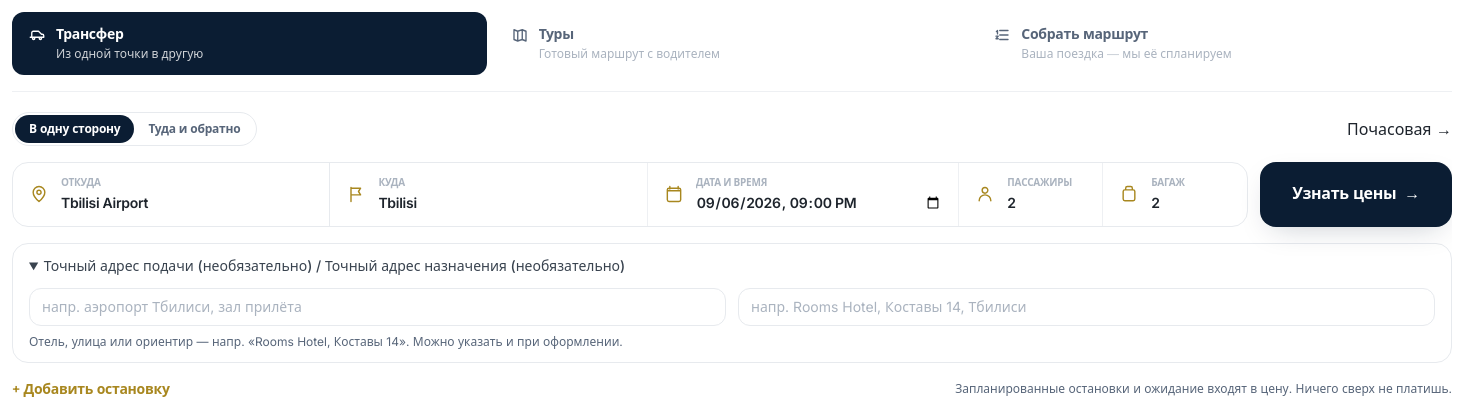
Test: booking widget (ru) › switches panels when another mode is chosen
This screenshot has width=1464, height=414.
Click the tab "Туры Готовый маршрут с водителем" at (556, 34), box x1=495 y1=12 x2=969 y2=74
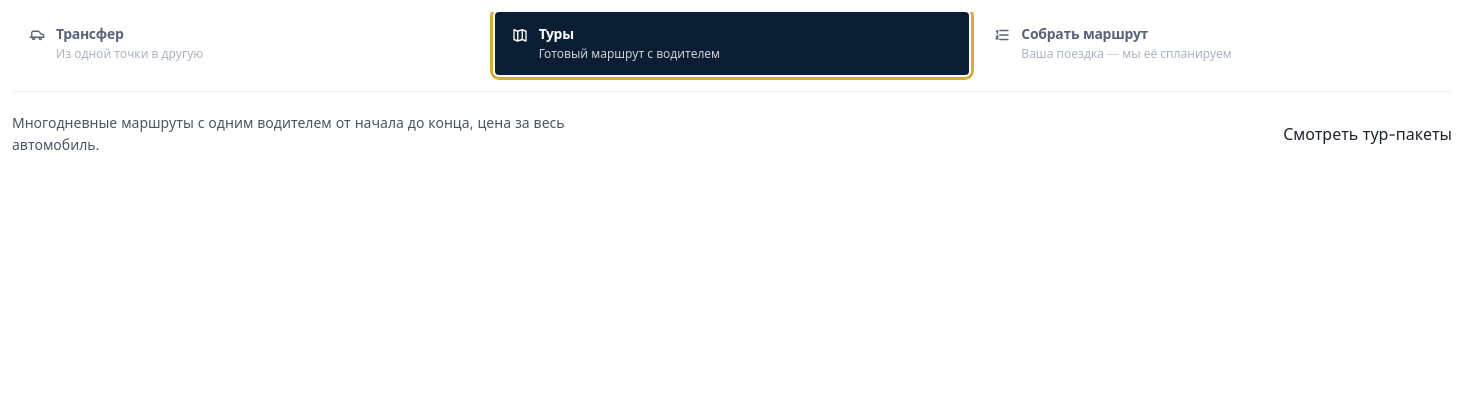
Now the text "Многодневные маршруты с одним водителем от начала до конца, цена за весь автомобиль." is shown, box x1=12 y1=114 x2=565 y2=153
Now the button "Узнать цены" is gone
Click the tab "Собрать маршрут Ваша поездка — мы её спланируем" at (1215, 43), box x1=977 y1=12 x2=1452 y2=74
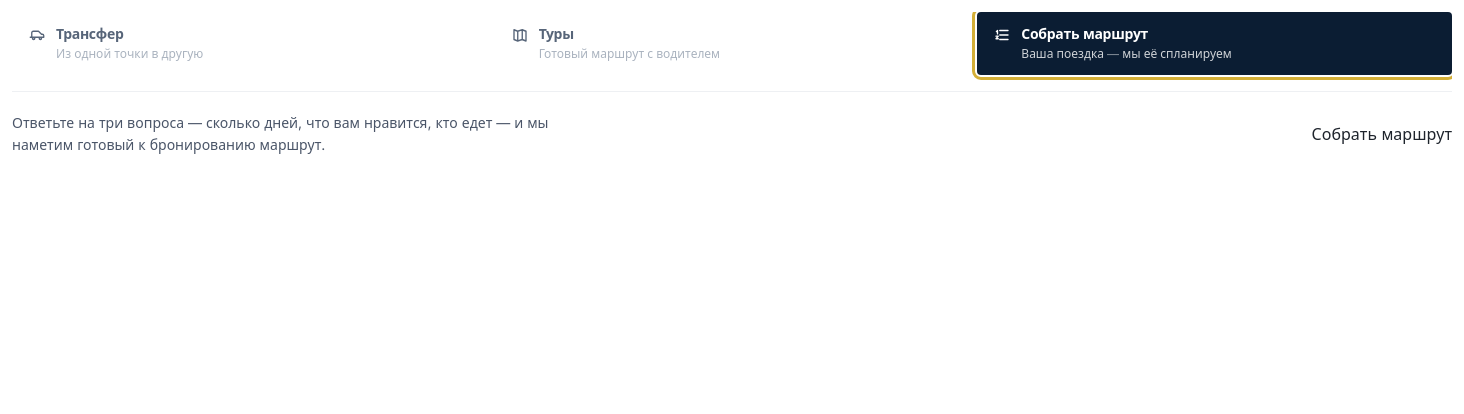
Now the text "Ответьте на три вопроса — сколько дней, что вам нравится, кто едет — и мы наметим готовый к бронированию маршрут." is shown, box x1=12 y1=114 x2=548 y2=153
Now the text "Многодневные маршруты с одним водителем от начала до конца, цена за весь автомобиль." is gone
Click the tab "Трансфер Из одной точки в другую" at (90, 34), box x1=12 y1=12 x2=487 y2=74
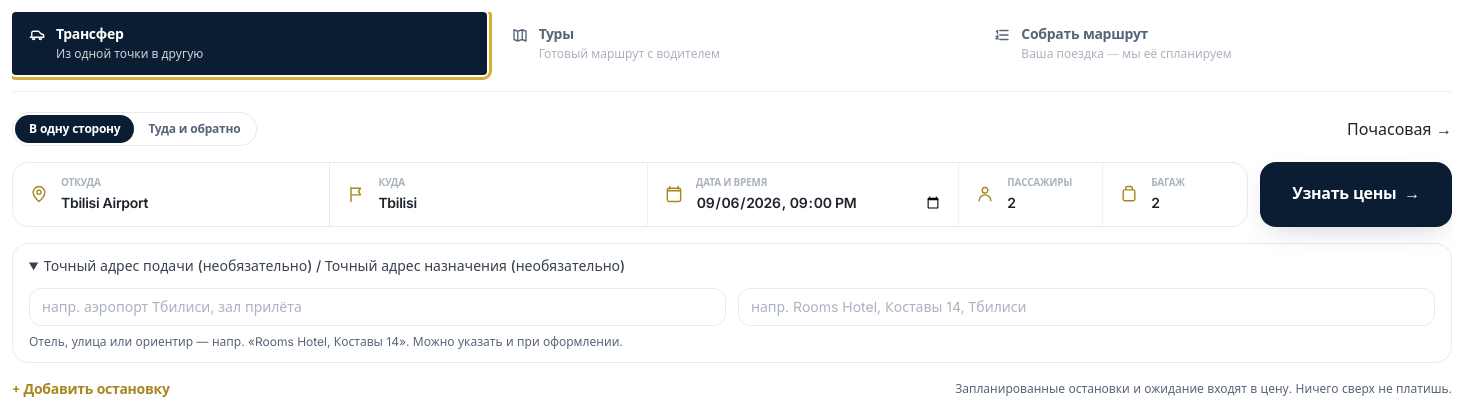
Now the button "Узнать цены →" is shown, box x1=1260 y1=162 x2=1452 y2=226
